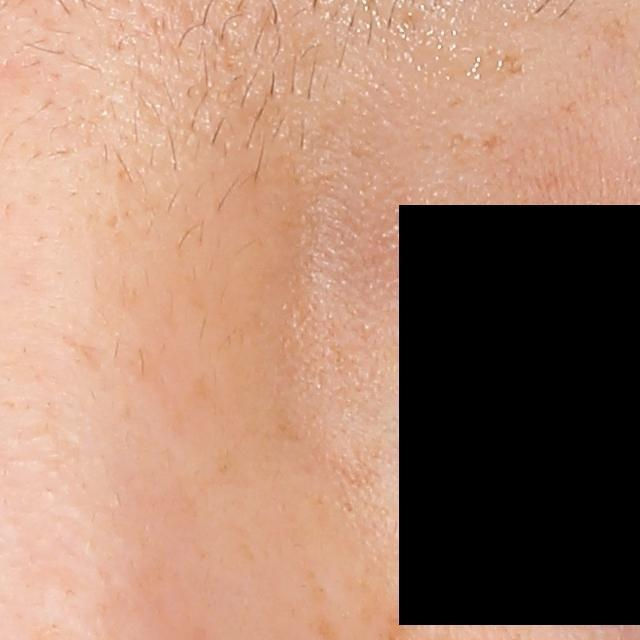melasma: (496, 49, 529, 79), (598, 20, 628, 53), (481, 130, 505, 151)
